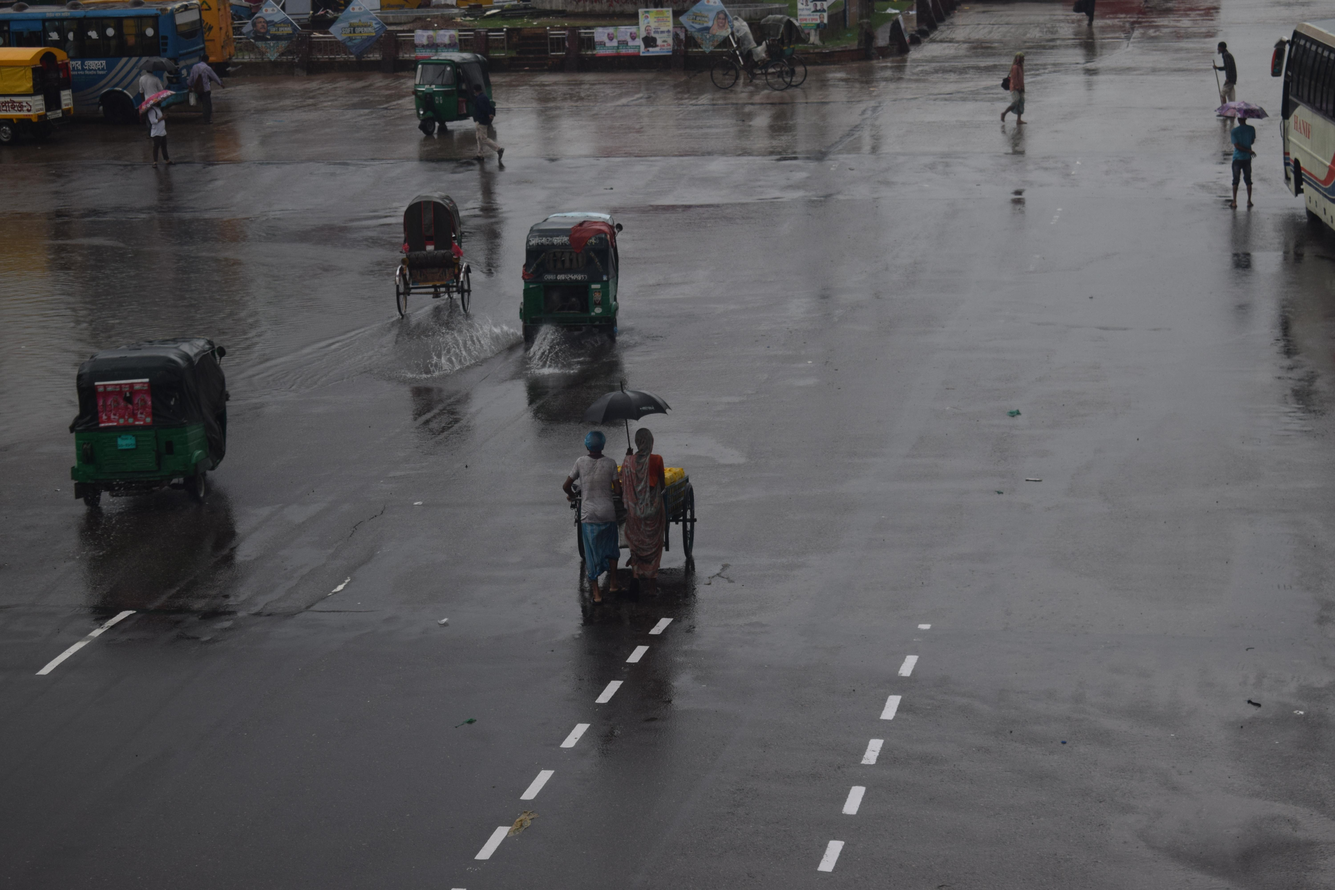Bus: (11, 0, 221, 134), (1235, 8, 1335, 247)
Car: (363, 167, 499, 328), (691, 10, 823, 103), (0, 43, 93, 139)
